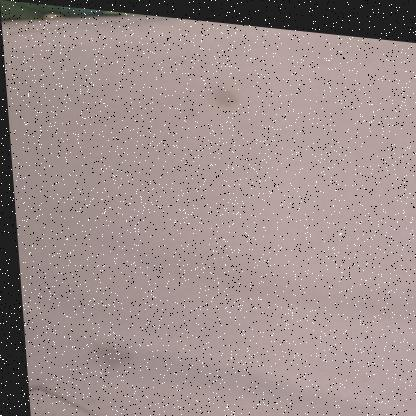spot: (85, 341, 130, 377), (206, 82, 242, 107)
